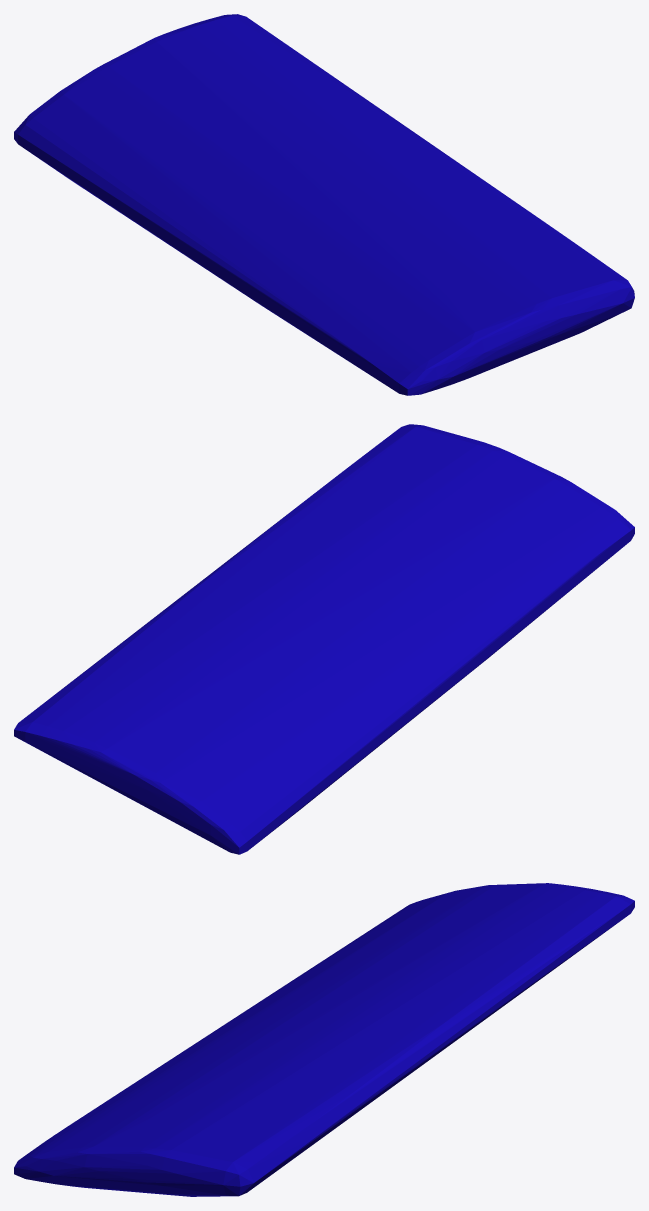
File: right-shoulder-yaw-0_part_5.obj
3 views of the same model, one above another, from view 1: azimuth 30°, elevation 25°; view 2: azimuth 150°, elevation 25°; view 3: azimuth 330°, elevation 25° (orthographic).
Bounding box in the file's own units: 0.0192 × 0.0071 × 0.0562.
